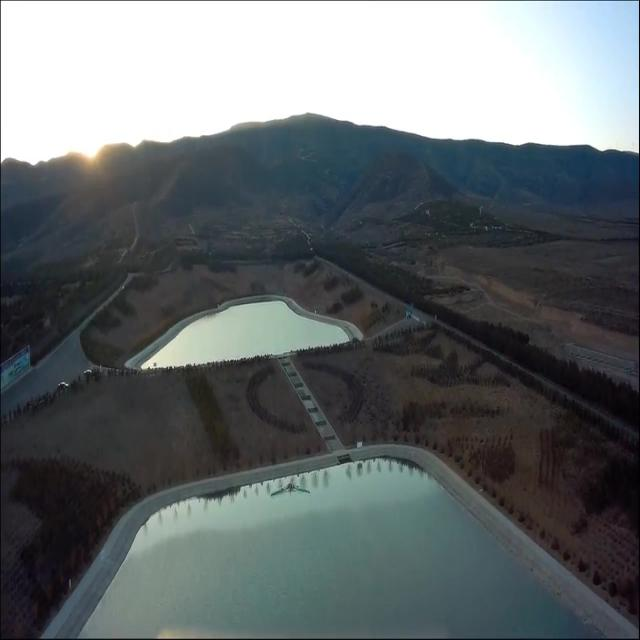iha: (270, 481, 311, 498)
